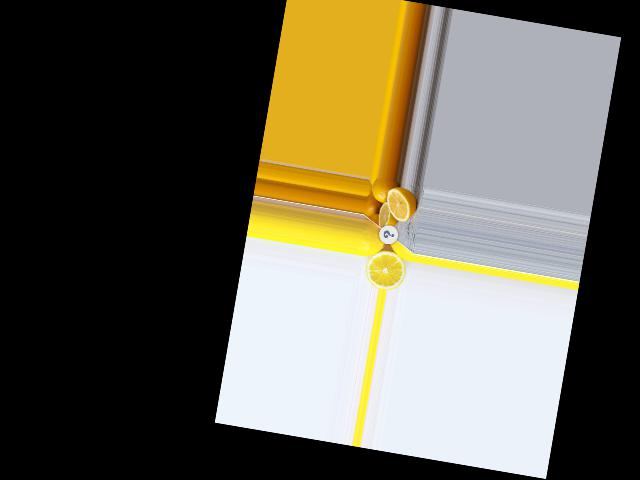lemon: (356, 218, 389, 261)
